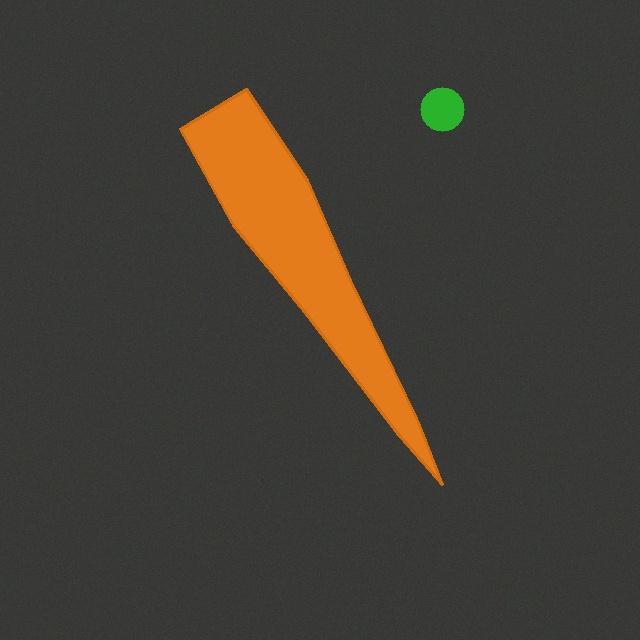Good_Carrot: (172, 81, 450, 492)
